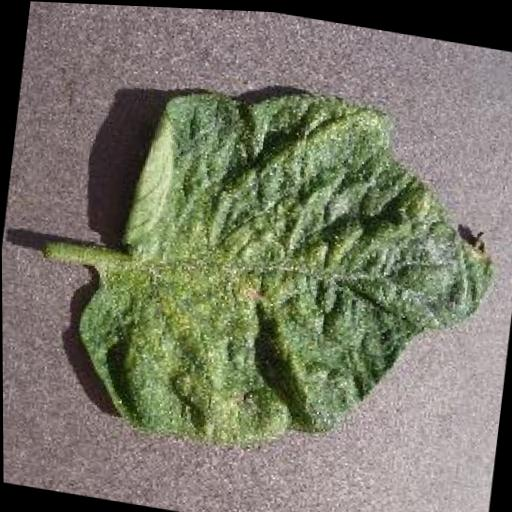Spider Mites: (62, 55, 512, 479)
